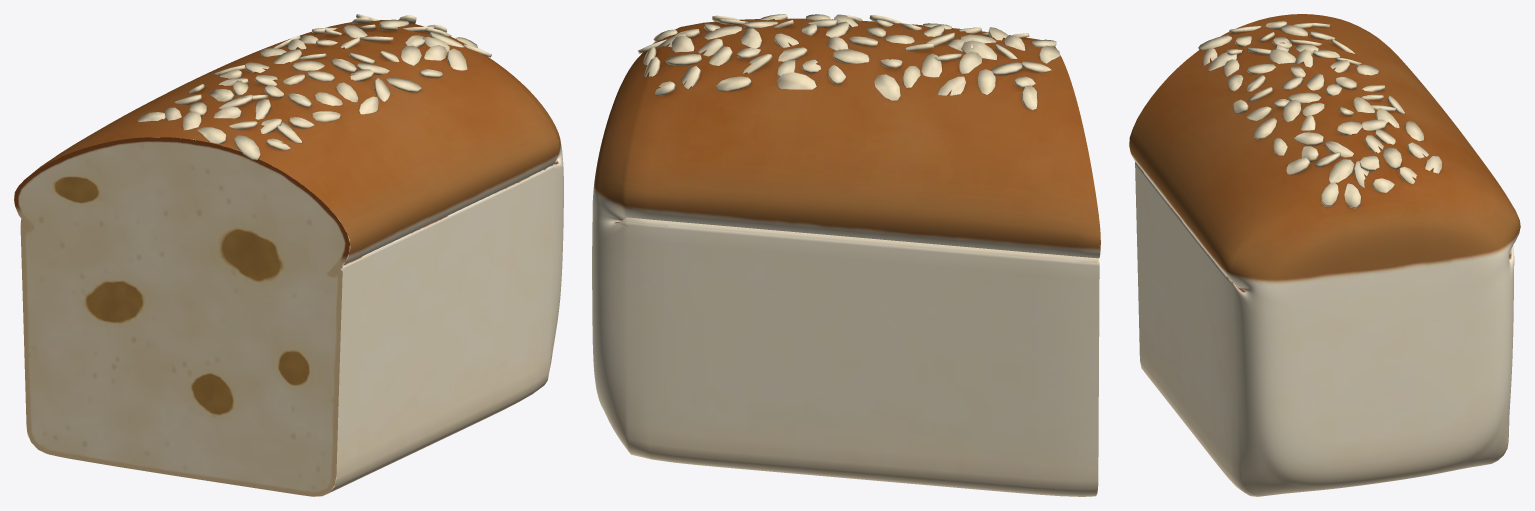
Rendered from loaf--chestnut-puree.glb.
The picture shows the model from 3 angles, left to right: view 1: azimuth 30°, elevation 25°; view 2: azimuth 150°, elevation 25°; view 3: azimuth 270°, elevation 25°; orthographic projection. The views are drawn at different scales.
Visible parts, largest first — view 1: loaf_chestnut-puree; view 2: loaf_chestnut-puree; view 3: loaf_chestnut-puree.
Part boxes in pixels (x1,y1,x2,y2): loaf_chestnut-puree: (14,14,563,496); loaf_chestnut-puree: (592,14,1100,496); loaf_chestnut-puree: (1129,14,1520,496).
Bounding box in the file's own units: 1.04 × 0.7354 × 0.7774.
1 material, 1 textured.
